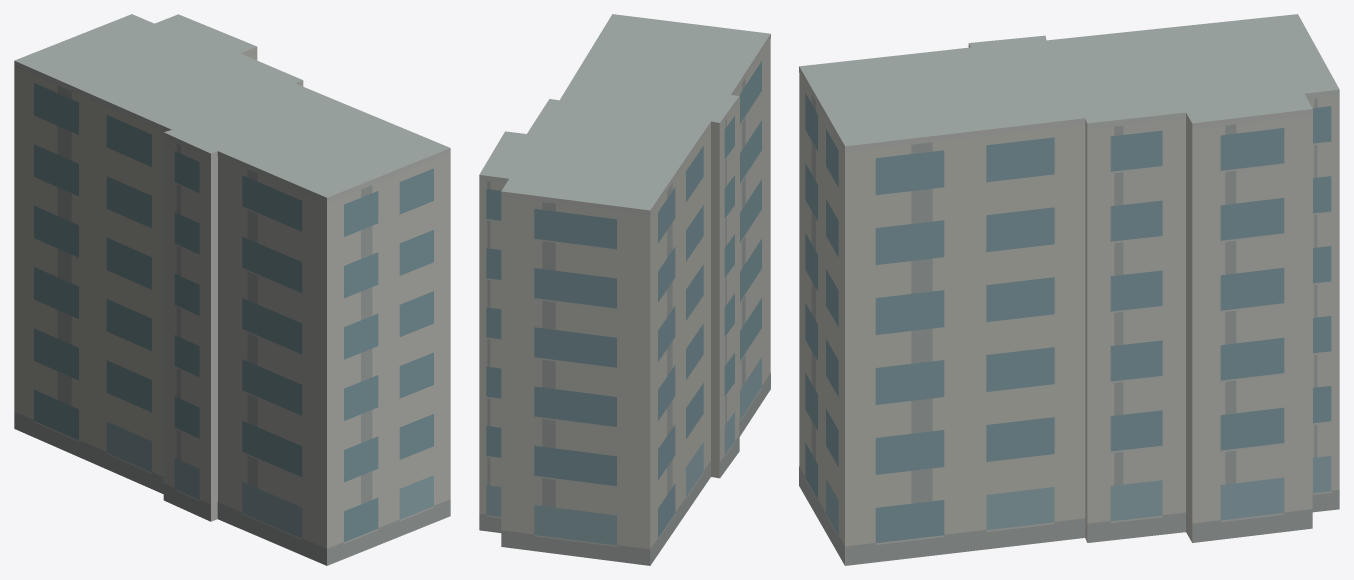
The model's file is survey-upis-32823472.glb.
3 renders of one model, left to right at view 1: azimuth 30°, elevation 25°; view 2: azimuth 150°, elevation 25°; view 3: azimuth 270°, elevation 25°, orthographic. The views are drawn at different scales.
Parts seen in each view (by area): view 1: survey-upis-32823472.tmp; view 2: survey-upis-32823472.tmp; view 3: survey-upis-32823472.tmp.
Part boxes in pixels (x1,y1,x2,y2): survey-upis-32823472.tmp: (14, 14, 450, 565); survey-upis-32823472.tmp: (479, 14, 770, 565); survey-upis-32823472.tmp: (799, 14, 1339, 565).
Size of the model in its own units: 11.15 by 16.48 by 19.25.
